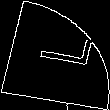L_W: (22, 34, 88, 76)
